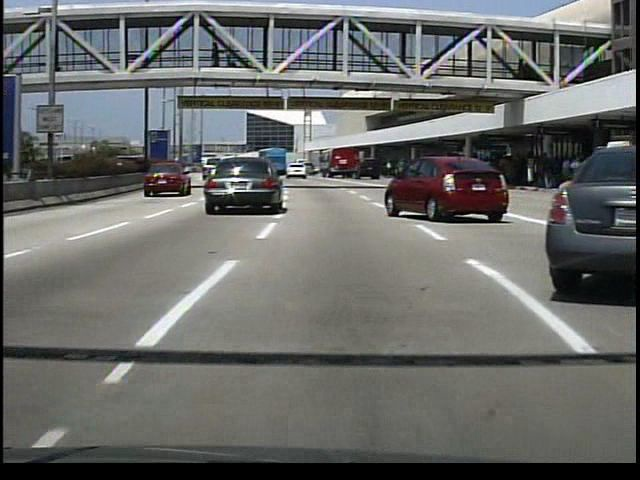person: (211, 42, 226, 69)
